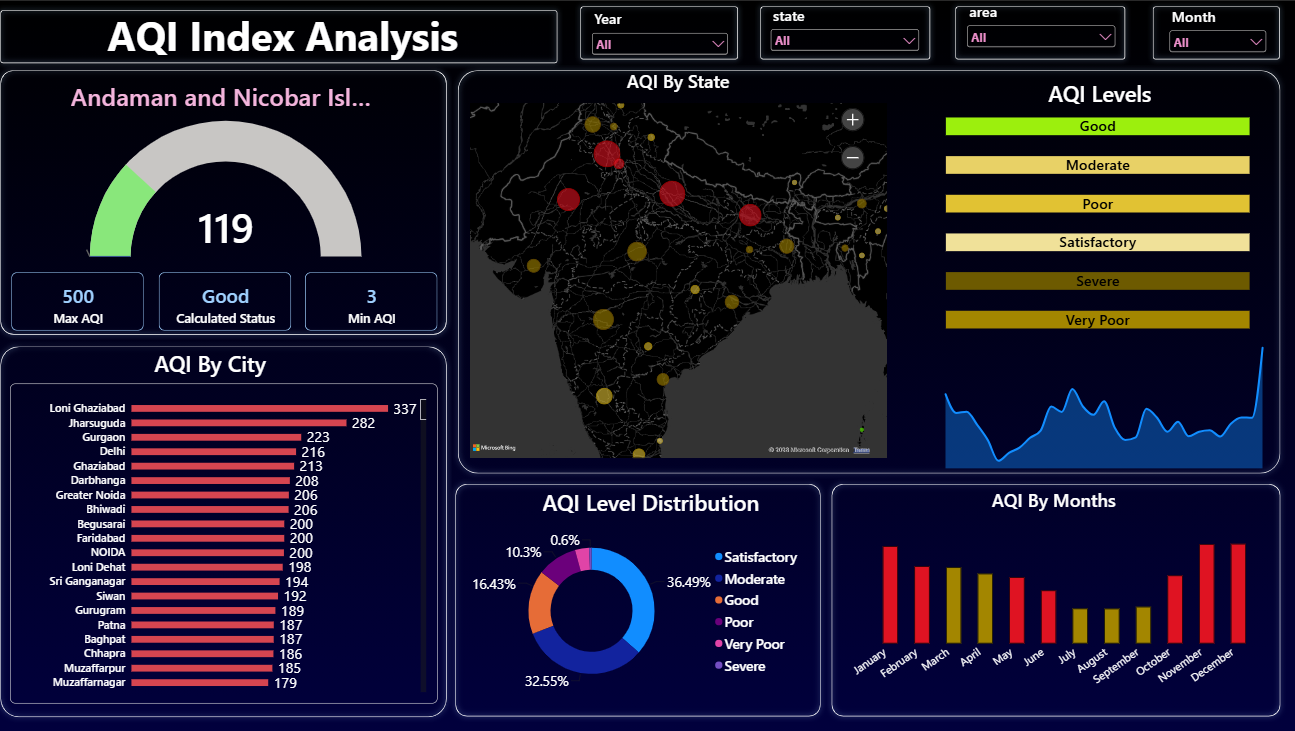

The page's visual inventory and layout, read from the dashboard file:
{"tool":"powerbi","page":{"name":"Page 1","canvas":[1920,1080],"ordinal":0},"visuals":[{"type":"shape","box":[0,94.7,673.1,405.5],"z":0},{"type":"gauge","fields":{"Y":["Avg(Aqi_Cleaned_final.aqi_value)"]},"box":[21.7,161.1,635,230],"z":1000},{"type":"shape","box":[0,500.2,673.1,561.9],"z":2000},{"type":"clusteredBarChart","fields":{"Category":["Aqi_Cleaned_final.area"],"Y":["Aqi_Cleaned_final.average_aqi"]},"box":[22.6,564,629.8,471.4],"z":3000},{"type":"shape","box":[673.2,94.1,1227,609.9],"z":4000},{"type":"map","fields":{"Category":["Aqi_Cleaned_final.state"],"Size":["Sum(Aqi_Cleaned_final.aqi_value)"]},"box":[682.2,135.7,646,551.9],"z":5000},{"type":"shape","box":[669.6,704,553.8,358.3],"z":6000},{"type":"donutChart","fields":{"Category":["Aqi_Cleaned_final.calculated_status"],"Y":["CountNonNull(Aqi_Cleaned_final.calculated_status)"]},"box":[682.2,756.4,523,284.1],"z":7000},{"type":"shape","box":[854.2,0,247.9,94.1],"z":8000},{"type":"slicer","title":"Year","fields":{"Values":["Aqi_Cleaned_final.date.Variation.Date Hierarchy.Year"]},"box":[874.1,10.9,209.9,83.2],"z":9000},{"type":"shape","box":[1118.4,0,266,94.1],"z":10000},{"type":"slicer","title":"Year","fields":{"Values":["Aqi_Cleaned_final.state"]},"box":[1138.3,5.4,228,83.2],"z":11000},{"type":"shape","box":[1406.1,0,266,94.1],"z":12000},{"type":"slicer","title":"Year","fields":{"Values":["Aqi_Cleaned_final.area"]},"box":[1426,0,228,83.2],"z":13000},{"type":"shape","box":[0,5.4,836.1,94.1],"z":14000},{"type":"textbox","box":[23.5,10.9,799.9,77.8],"z":15000},{"type":"cardVisual","fields":{"Data":["Max(Aqi_Cleaned_final.aqi_value)"]},"box":[23.5,399.9,195.4,86.9],"z":16000},{"type":"cardVisual","fields":{"Data":["Min(Aqi_Cleaned_final.aqi_value)"]},"box":[456,399.9,195.4,86.9],"z":17000},{"type":"cardVisual","fields":{"Data":["Min(Aqi_Cleaned_final.calculated_status)"]},"box":[240.7,399.9,195.4,86.9],"z":18000},{"type":"cardVisual","fields":{"Data":["Min(Aqi_Cleaned_final.state)"]},"box":[95.9,99.5,486.8,61.5],"z":19000},{"type":"shape","box":[1697.5,0,202.7,94.1],"z":20000},{"type":"slicer","fields":{"Values":["Aqi_Cleaned_final.date.Variation.Date Hierarchy.Month"]},"box":[1724.6,7.2,152,76],"z":21000},{"type":"areaChart","fields":{"Category":["Aqi_Cleaned_final.date.Variation.Date Hierarchy.Day"],"Y":["Aqi_Cleaned_final.average_aqi"]},"box":[1389.8,477.8,486.8,209.9],"z":22000},{"type":"clusteredBarChart","fields":{"Category":["Aqi_Cleaned_final.calculated_status"],"Y":["Aqi_Cleaned_final.Label"]},"box":[1384.4,148.4,479.6,351.1],"z":23000},{"type":"shape","box":[1223.3,704,676.8,358.3],"z":24000},{"type":"columnChart","fields":{"Category":["Aqi_Cleaned_final.date.Variation.Date Hierarchy.Month"],"Y":["Sum(Aqi_Cleaned_final.aqi_value)"]},"box":[1239.6,756.4,637,284.1],"z":25000},{"type":"textbox","box":[148.4,512.1,334.8,52.5],"z":26000},{"type":"textbox","box":[805.3,716.6,358.3,52.5],"z":27000},{"type":"textbox","box":[1389.8,114,474.1,47.1],"z":28000},{"type":"textbox","box":[682.2,99.5,646,61.5],"z":28001},{"type":"textbox","box":[1239.6,716.6,637,65.1],"z":28002}]}

Visuals, with their boxes in screenshot pixels (x1, y1, x2, y2), scaled from the page's 1920x1080 canvas onto the 1295x731 screenshot:
shape: 0:64:454:339
gauge - Avg(Aqi_Cleaned_final.aqi_value): 15:109:443:265
shape: 0:339:454:719
clusteredBarChart - Aqi_Cleaned_final.area x Aqi_Cleaned_final.average_aqi: 15:382:440:701
shape: 454:64:1282:477
map - Aqi_Cleaned_final.state x Sum(Aqi_Cleaned_final.aqi_value): 460:92:896:465
shape: 452:477:825:719
donutChart - Aqi_Cleaned_final.calculated_status x CountNonNull(Aqi_Cleaned_final.calculated_status): 460:512:813:704
shape: 576:0:743:64
"Year" slicer: 590:7:731:64
shape: 754:0:934:64
"Year" slicer: 768:4:922:60
shape: 948:0:1128:64
"Year" slicer: 962:0:1116:56
shape: 0:4:564:67
textbox: 16:7:555:60
cardVisual - Max(Aqi_Cleaned_final.aqi_value): 16:271:148:329
cardVisual - Min(Aqi_Cleaned_final.aqi_value): 308:271:439:329
cardVisual - Min(Aqi_Cleaned_final.calculated_status): 162:271:294:329
cardVisual - Min(Aqi_Cleaned_final.state): 65:67:393:109
shape: 1145:0:1282:64
slicer - Aqi_Cleaned_final.date.Variation.Date Hierarchy.Month: 1163:5:1266:56
areaChart - Aqi_Cleaned_final.date.Variation.Date Hierarchy.Day x Aqi_Cleaned_final.average_aqi: 937:323:1266:465
clusteredBarChart - Aqi_Cleaned_final.calculated_status x Aqi_Cleaned_final.Label: 934:100:1257:338
shape: 825:477:1282:719
columnChart - Aqi_Cleaned_final.date.Variation.Date Hierarchy.Month x Sum(Aqi_Cleaned_final.aqi_value): 836:512:1266:704
textbox: 100:347:326:382
textbox: 543:485:785:521
textbox: 937:77:1257:109
textbox: 460:67:896:109
textbox: 836:485:1266:529
